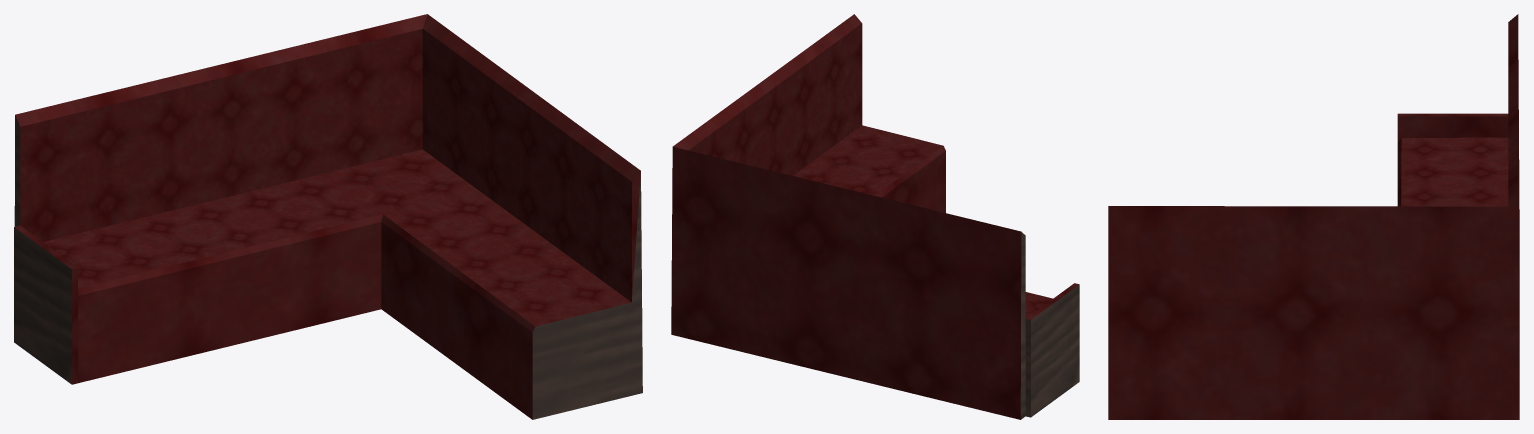
Rendered from couch2.obj.
The picture shows the model from 3 angles, left to right: view 1: azimuth 30°, elevation 25°; view 2: azimuth 150°, elevation 25°; view 3: azimuth 270°, elevation 25°; orthographic projection. The views are drawn at different scales.
Visible parts, largest first — view 1: Cube.002; view 2: Cube.002; view 3: Cube.002.
Part boxes in pixels (bbox=[...]): Cube.002: bbox=[14, 14, 642, 419]; Cube.002: bbox=[671, 14, 1079, 419]; Cube.002: bbox=[1108, 14, 1519, 419].
Bounding box in the file's own units: 3.04 × 1.54 × 2.7.
Materials: 2 (2 with a texture image).
